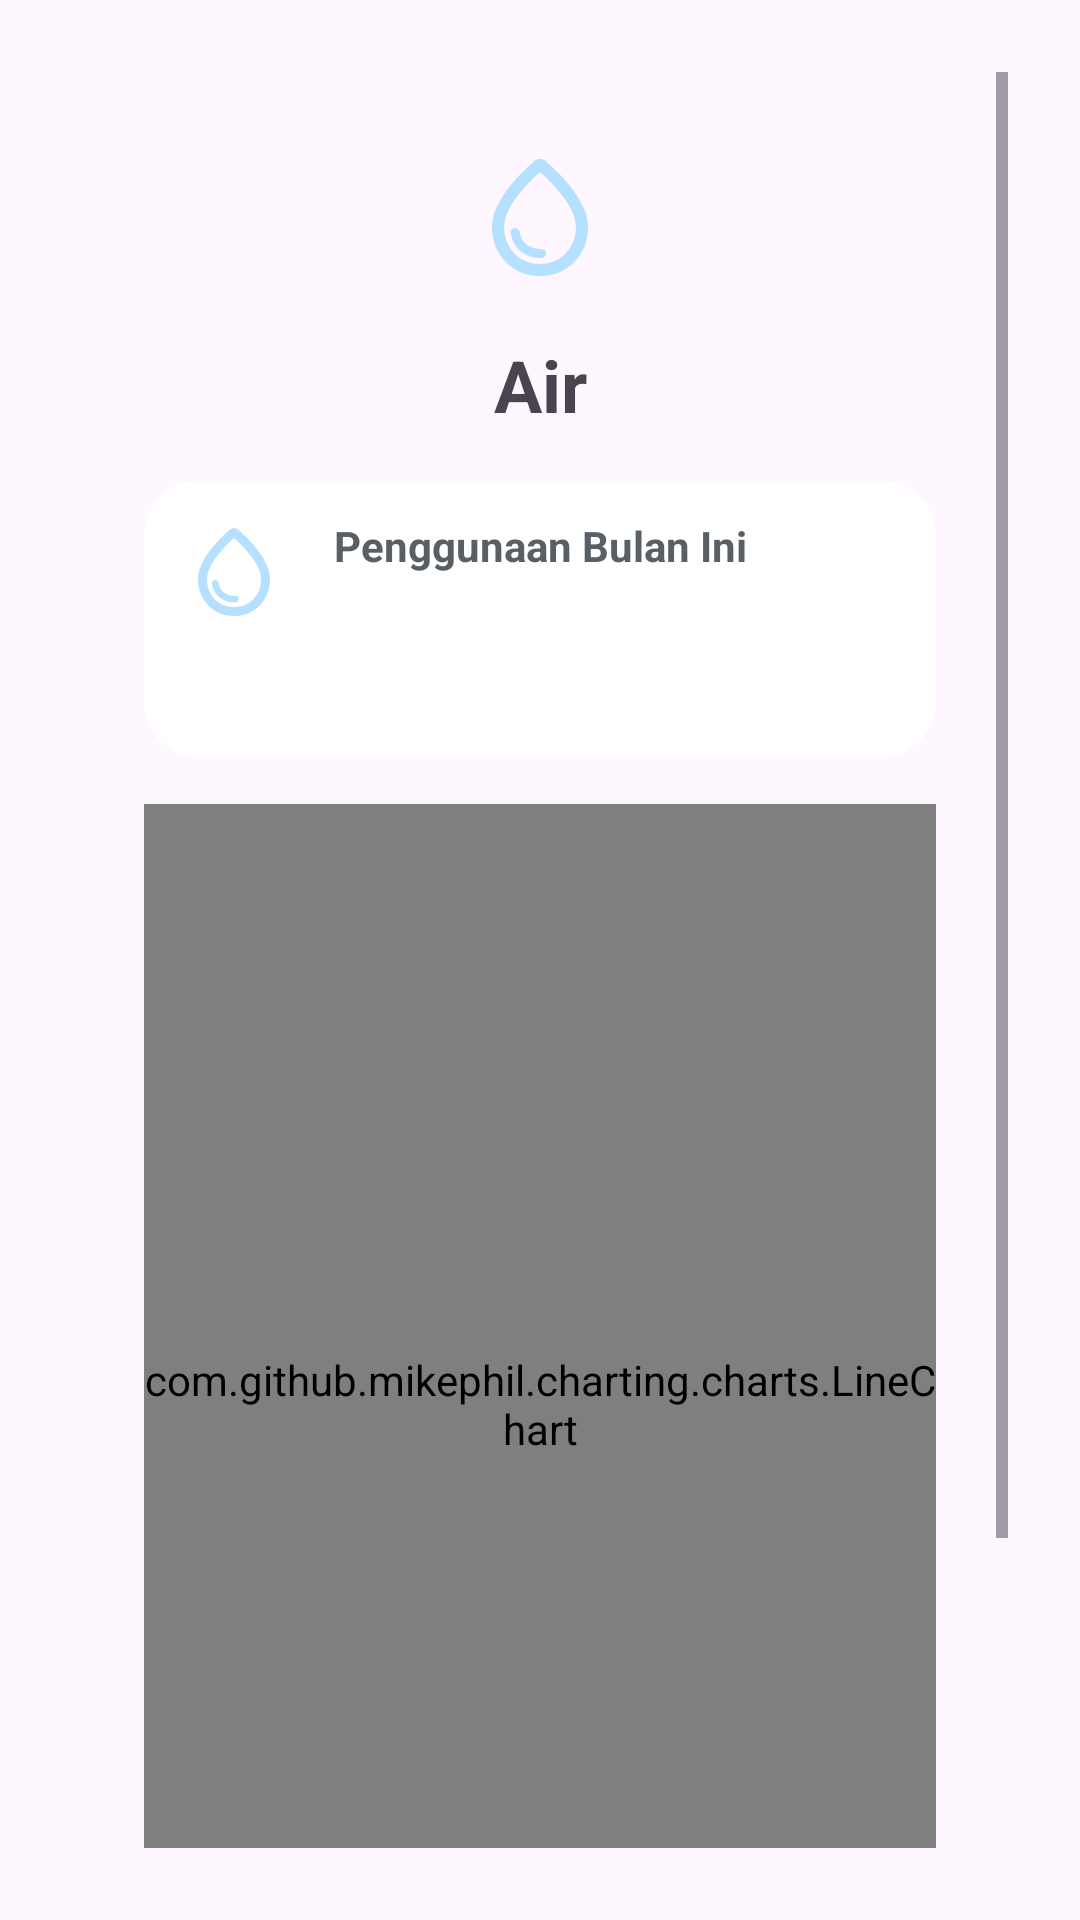

Where to tap for icons on this 1080x1920 app screen, as point (x, y):
water drop: point (540, 217), point (234, 572)
